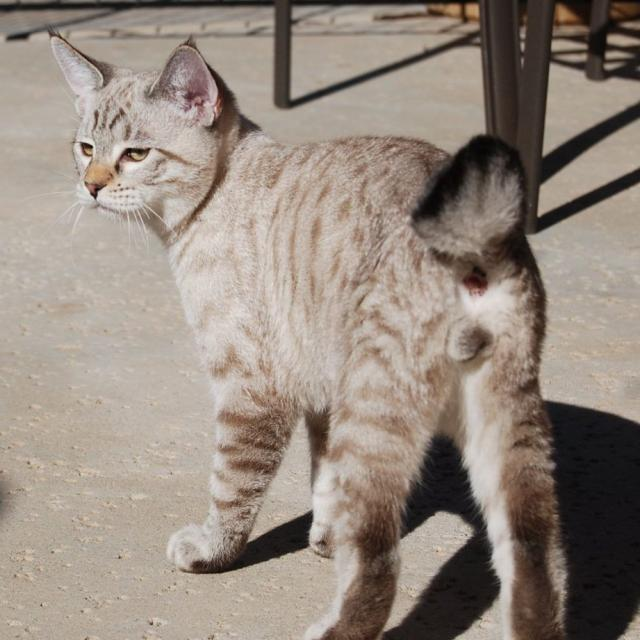American Bobtail: (44, 23, 577, 640)
